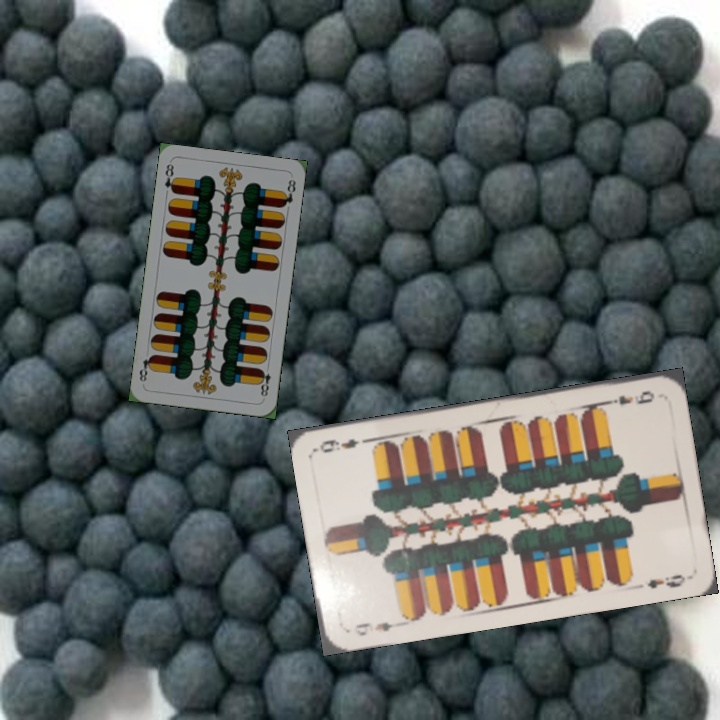E8: (255, 361, 273, 401), (161, 160, 179, 196)
E9: (601, 387, 657, 408), (349, 618, 403, 639)
